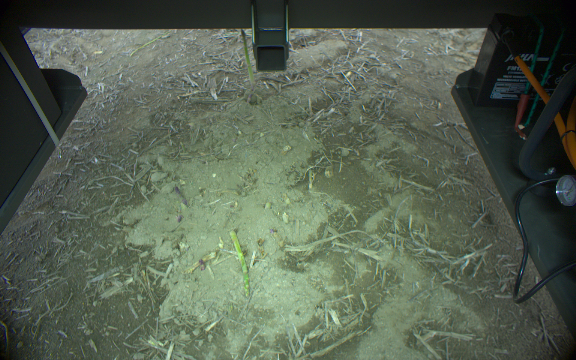aspa: (225, 227, 252, 297), (237, 27, 257, 98)
